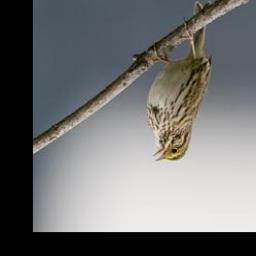Sparrow: (148, 0, 214, 165)
